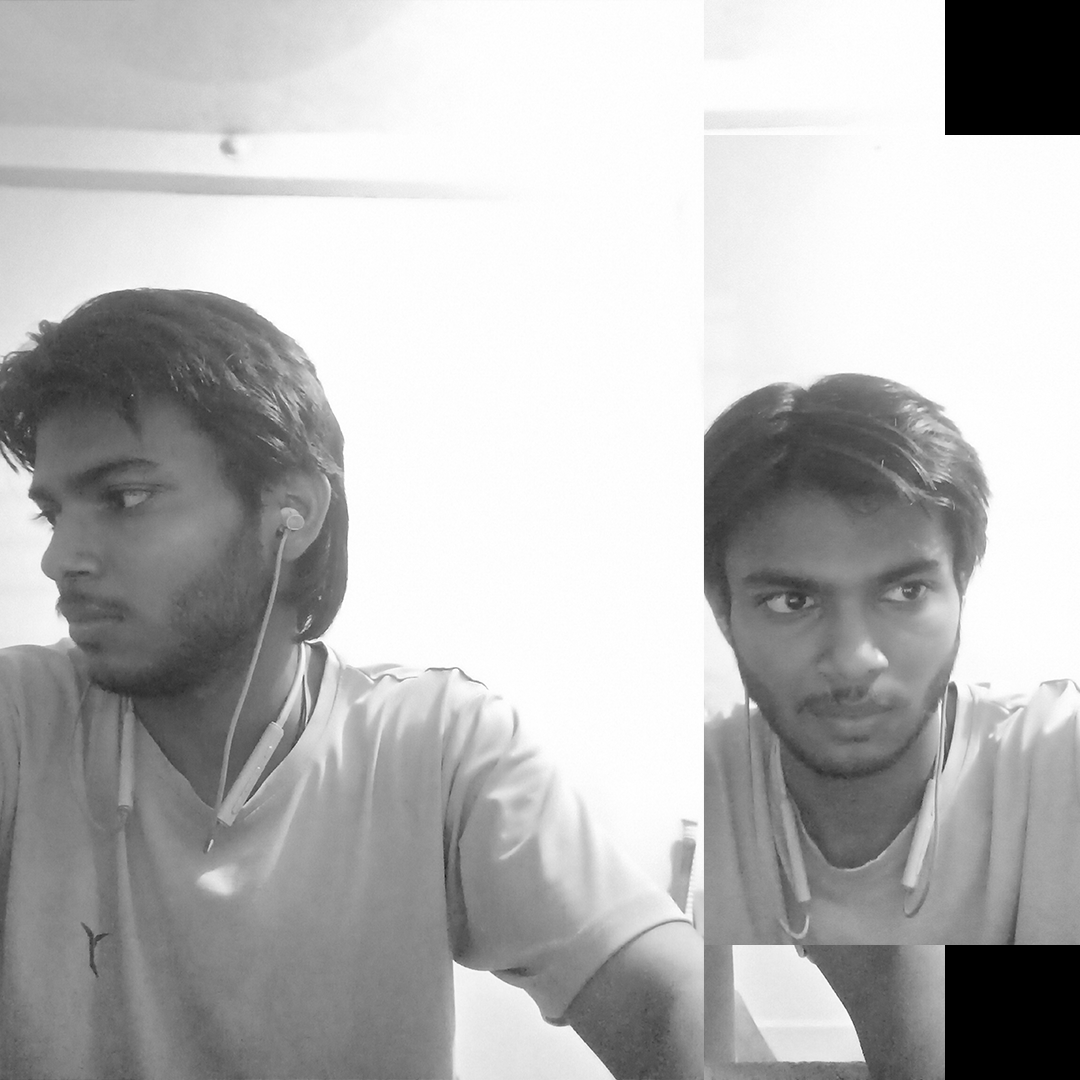Focused: (680, 287, 1042, 940)
distracted: (14, 261, 421, 978)
